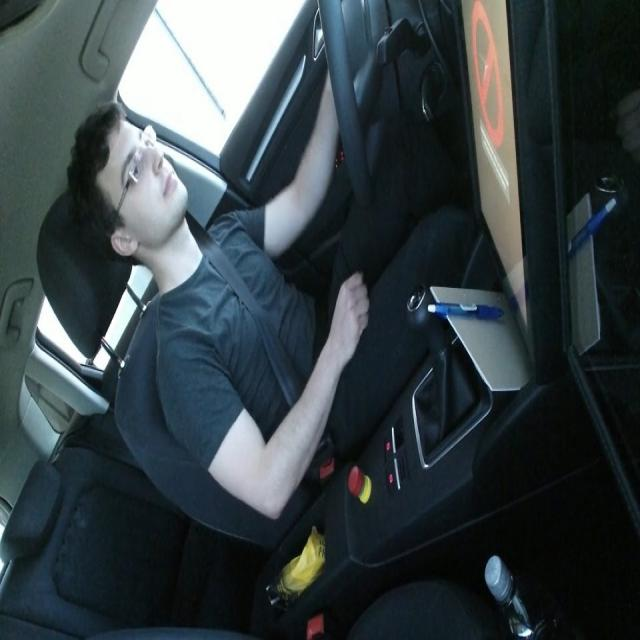pen: (567, 193, 617, 254), (427, 300, 503, 320)
